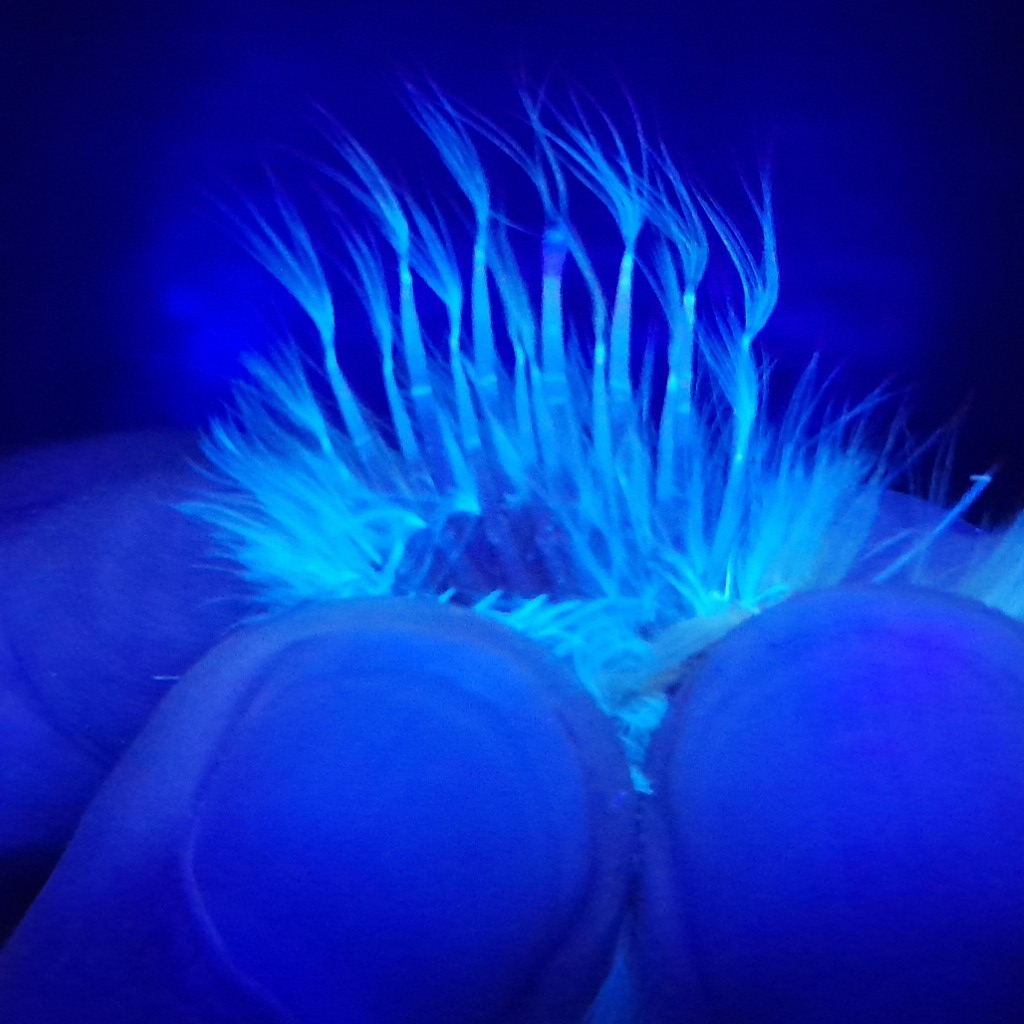female: (293, 189, 775, 614)
